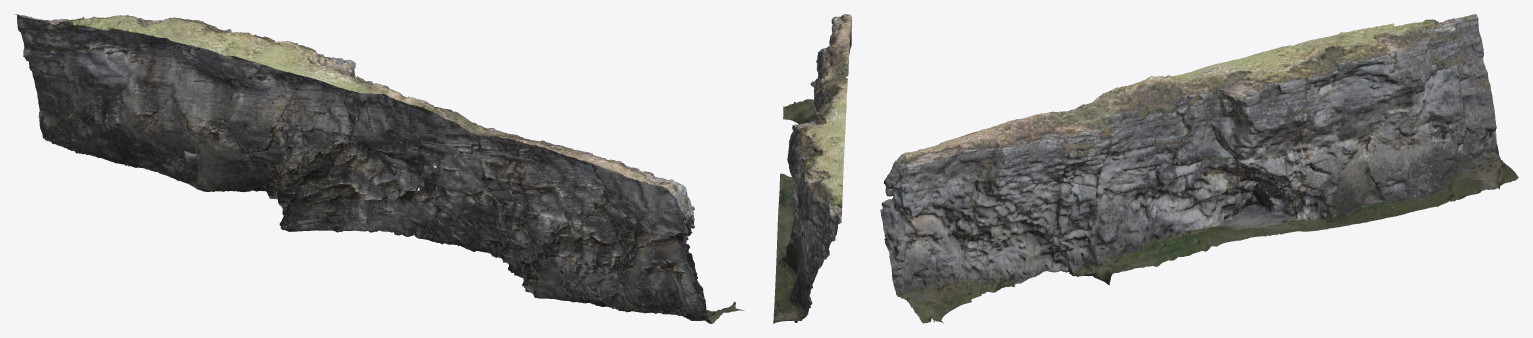
Rendered from stranska_rock_1.glb.
The picture shows the model from 3 angles, left to right: view 1: azimuth 30°, elevation 25°; view 2: azimuth 150°, elevation 25°; view 3: azimuth 270°, elevation 25°; orthographic projection. The views are drawn at different scales.
Parts seen in each view (by area): view 1: stranska_skala_1; view 2: stranska_skala_1; view 3: stranska_skala_1.
Part boxes in pixels (<box>): stranska_skala_1: <box>14,14,744,323</box>; stranska_skala_1: <box>773,14,851,323</box>; stranska_skala_1: <box>880,14,1518,323</box>.
Size of the model in its own units: 43.41 by 18.95 by 68.26.
Materials: 1 (1 with a texture image).
